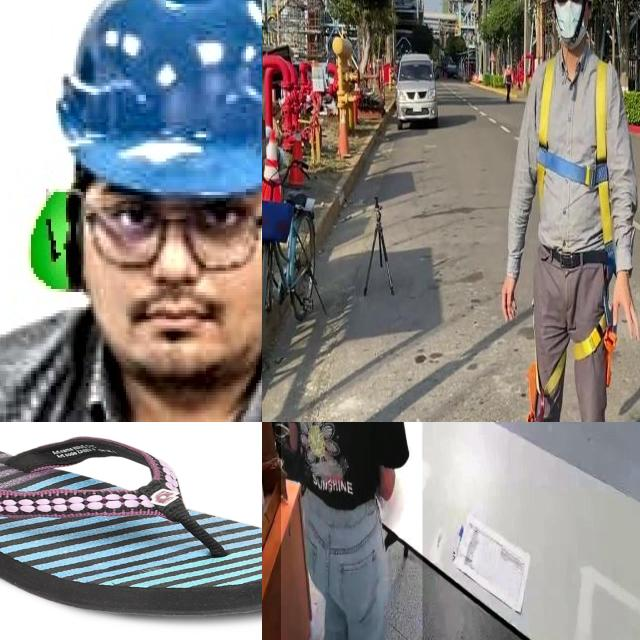Ear-protection: (8, 178, 262, 304)
Harness: (539, 56, 613, 246), (526, 320, 617, 422)
Sandals: (0, 425, 262, 620)
head_helmet: (25, 0, 262, 199)
person: (281, 422, 423, 640)
